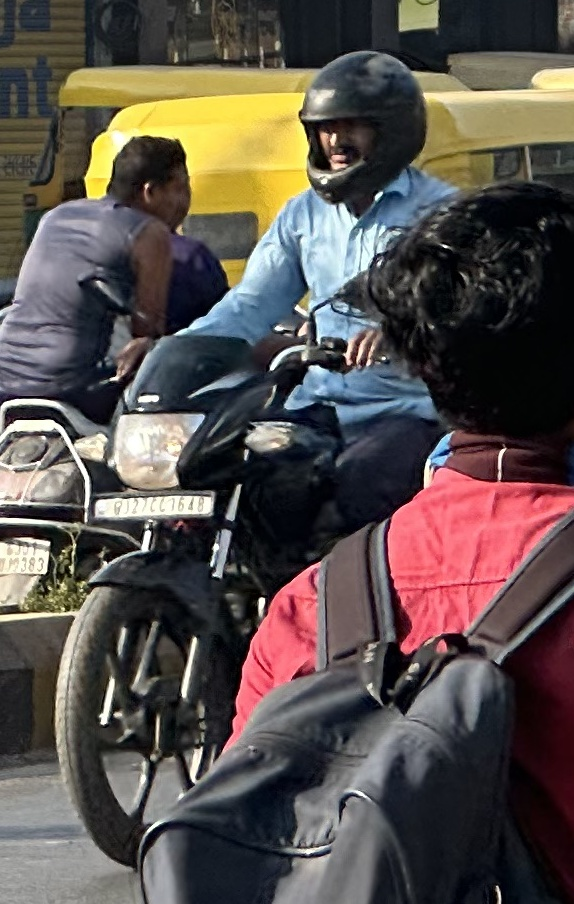BikeWithRider: (42, 37, 493, 879), (0, 122, 248, 626)
Helmet: (284, 40, 440, 211)
NoHelmet: (93, 125, 204, 237)
